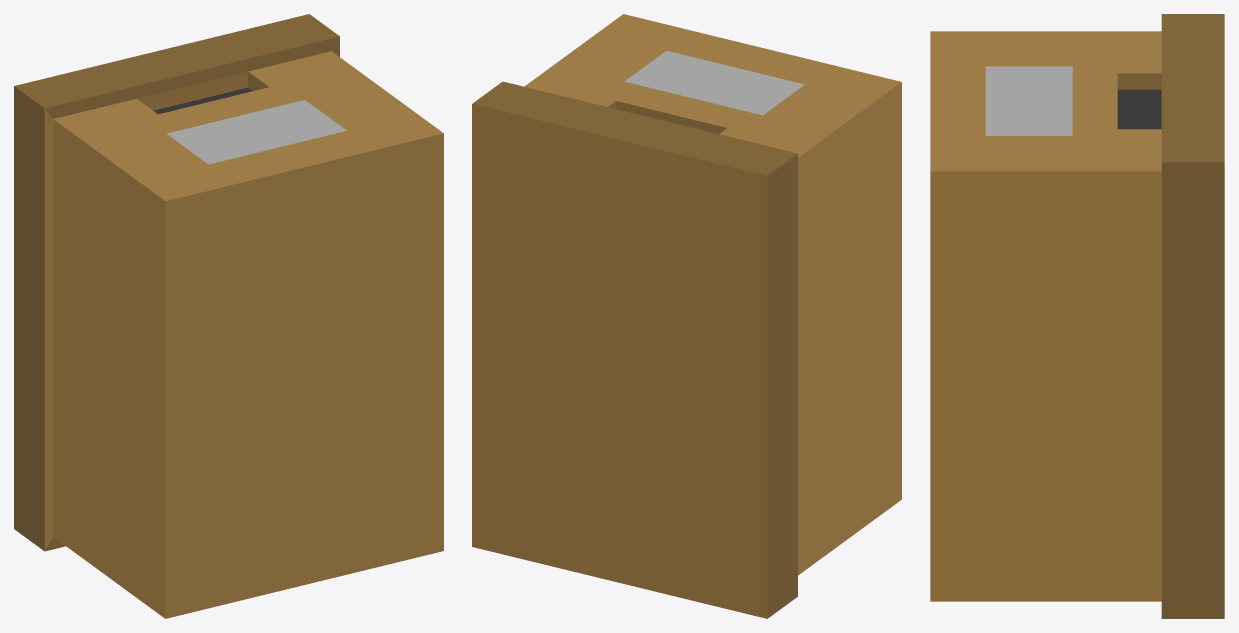
Rendered from FileBox.glb.
3 renders of one model, left to right at view 1: azimuth 30°, elevation 25°; view 2: azimuth 150°, elevation 25°; view 3: azimuth 270°, elevation 25°, orthographic. The views are drawn at different scales.
Visible parts, largest first — view 1: SO_FileBox_01; view 2: SO_FileBox_01; view 3: SO_FileBox_01.
Boxes of the visible parts, x1,y1,x2,y2 form: SO_FileBox_01: [14, 14, 443, 618]; SO_FileBox_01: [472, 14, 901, 618]; SO_FileBox_01: [930, 14, 1224, 618].
Size of the model in its own units: 0.6635 by 0.9511 by 0.5562.
1 material, 1 textured.
